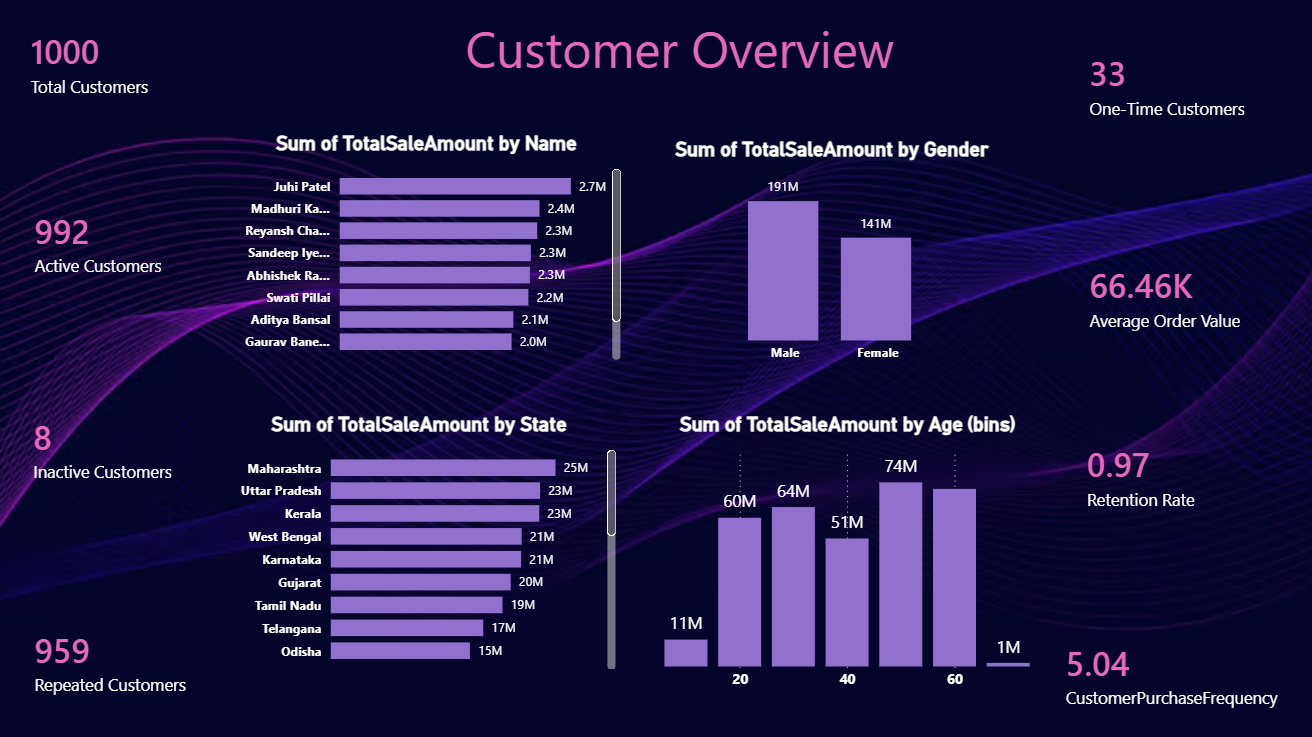

This screenshot's page, from the dashboard's own definition file:
{"tool":"powerbi","page":{"name":"Customer","canvas":[1280,720],"ordinal":5},"visuals":[{"type":"cardVisual","fields":{"Data":["Measure Table.Total Customers"]},"box":[7.5,185,201.2,102.5],"z":0},{"type":"cardVisual","fields":{"Data":["Measure Table.Total Customers"]},"box":[3.8,11.2,203.8,103.8],"z":1000},{"type":"cardVisual","fields":{"Data":["Measure Table.Inactive Customers"]},"box":[6,384,202,102],"z":2000},{"type":"cardVisual","fields":{"Data":["Measure Table.Repeated Customers"]},"box":[7.5,565,212.5,150],"z":3000},{"type":"cardVisual","fields":{"Data":["Measure Table.Retention Rate"]},"box":[1022.5,385,236.2,153.8],"z":4000},{"type":"cardVisual","fields":{"Data":["Measure Table.Average Order Value"]},"box":[1025,226.2,236.2,123.8],"z":5000},{"type":"cardVisual","fields":{"Data":["Measure Table.Customer Purchase Frequency"]},"box":[1002.5,592.5,277.5,120],"z":6000},{"type":"barChart","fields":{"Category":["Dim_Customer.Name"],"Y":["Sum(Fact_Sales.TotalSaleAmount)"]},"box":[222.5,128.8,385,225],"z":7000},{"type":"columnChart","fields":{"Category":["Dim_Customer.Gender"],"Y":["Sum(Fact_Sales.TotalSaleAmount)"]},"box":[640,135,332.5,225],"z":8000},{"type":"barChart","fields":{"Category":["Dim_Customer.State"],"Y":["Sum(Fact_Sales.TotalSaleAmount)"]},"box":[212.5,400,390,252.5],"z":9000},{"type":"cardVisual","fields":{"Data":["Measure Table.One-Time Customers"]},"box":[1025,11.2,236.2,146.2],"z":10000},{"type":"columnChart","fields":{"Category":["Dim_Customer.Age (bins)"],"Y":["Sum(Fact_Sales.TotalSaleAmount)"]},"box":[640,400,362.5,276.2],"z":11000},{"type":"textbox","box":[345,11.2,627.5,75],"z":12000}]}

Visuals, with their boxes in screenshot pixels (x1, y1, x2, y2), scaled from the page's 1280x720 canvas onto the 1312x737 screenshot:
cardVisual - Measure Table.Total Customers: pyautogui.locateOnScreen(8, 189, 214, 294)
cardVisual - Measure Table.Total Customers: pyautogui.locateOnScreen(4, 11, 213, 118)
cardVisual - Measure Table.Inactive Customers: pyautogui.locateOnScreen(6, 393, 213, 497)
cardVisual - Measure Table.Repeated Customers: pyautogui.locateOnScreen(8, 578, 225, 732)
cardVisual - Measure Table.Retention Rate: pyautogui.locateOnScreen(1048, 394, 1290, 552)
cardVisual - Measure Table.Average Order Value: pyautogui.locateOnScreen(1051, 232, 1293, 358)
cardVisual - Measure Table.Customer Purchase Frequency: pyautogui.locateOnScreen(1028, 606, 1311, 729)
barChart - Dim_Customer.Name x Sum(Fact_Sales.TotalSaleAmount): pyautogui.locateOnScreen(228, 132, 623, 362)
columnChart - Dim_Customer.Gender x Sum(Fact_Sales.TotalSaleAmount): pyautogui.locateOnScreen(656, 138, 997, 368)
barChart - Dim_Customer.State x Sum(Fact_Sales.TotalSaleAmount): pyautogui.locateOnScreen(218, 409, 618, 668)
cardVisual - Measure Table.One-Time Customers: pyautogui.locateOnScreen(1051, 11, 1293, 161)
columnChart - Dim_Customer.Age (bins) x Sum(Fact_Sales.TotalSaleAmount): pyautogui.locateOnScreen(656, 409, 1028, 692)
textbox: pyautogui.locateOnScreen(354, 11, 997, 88)
